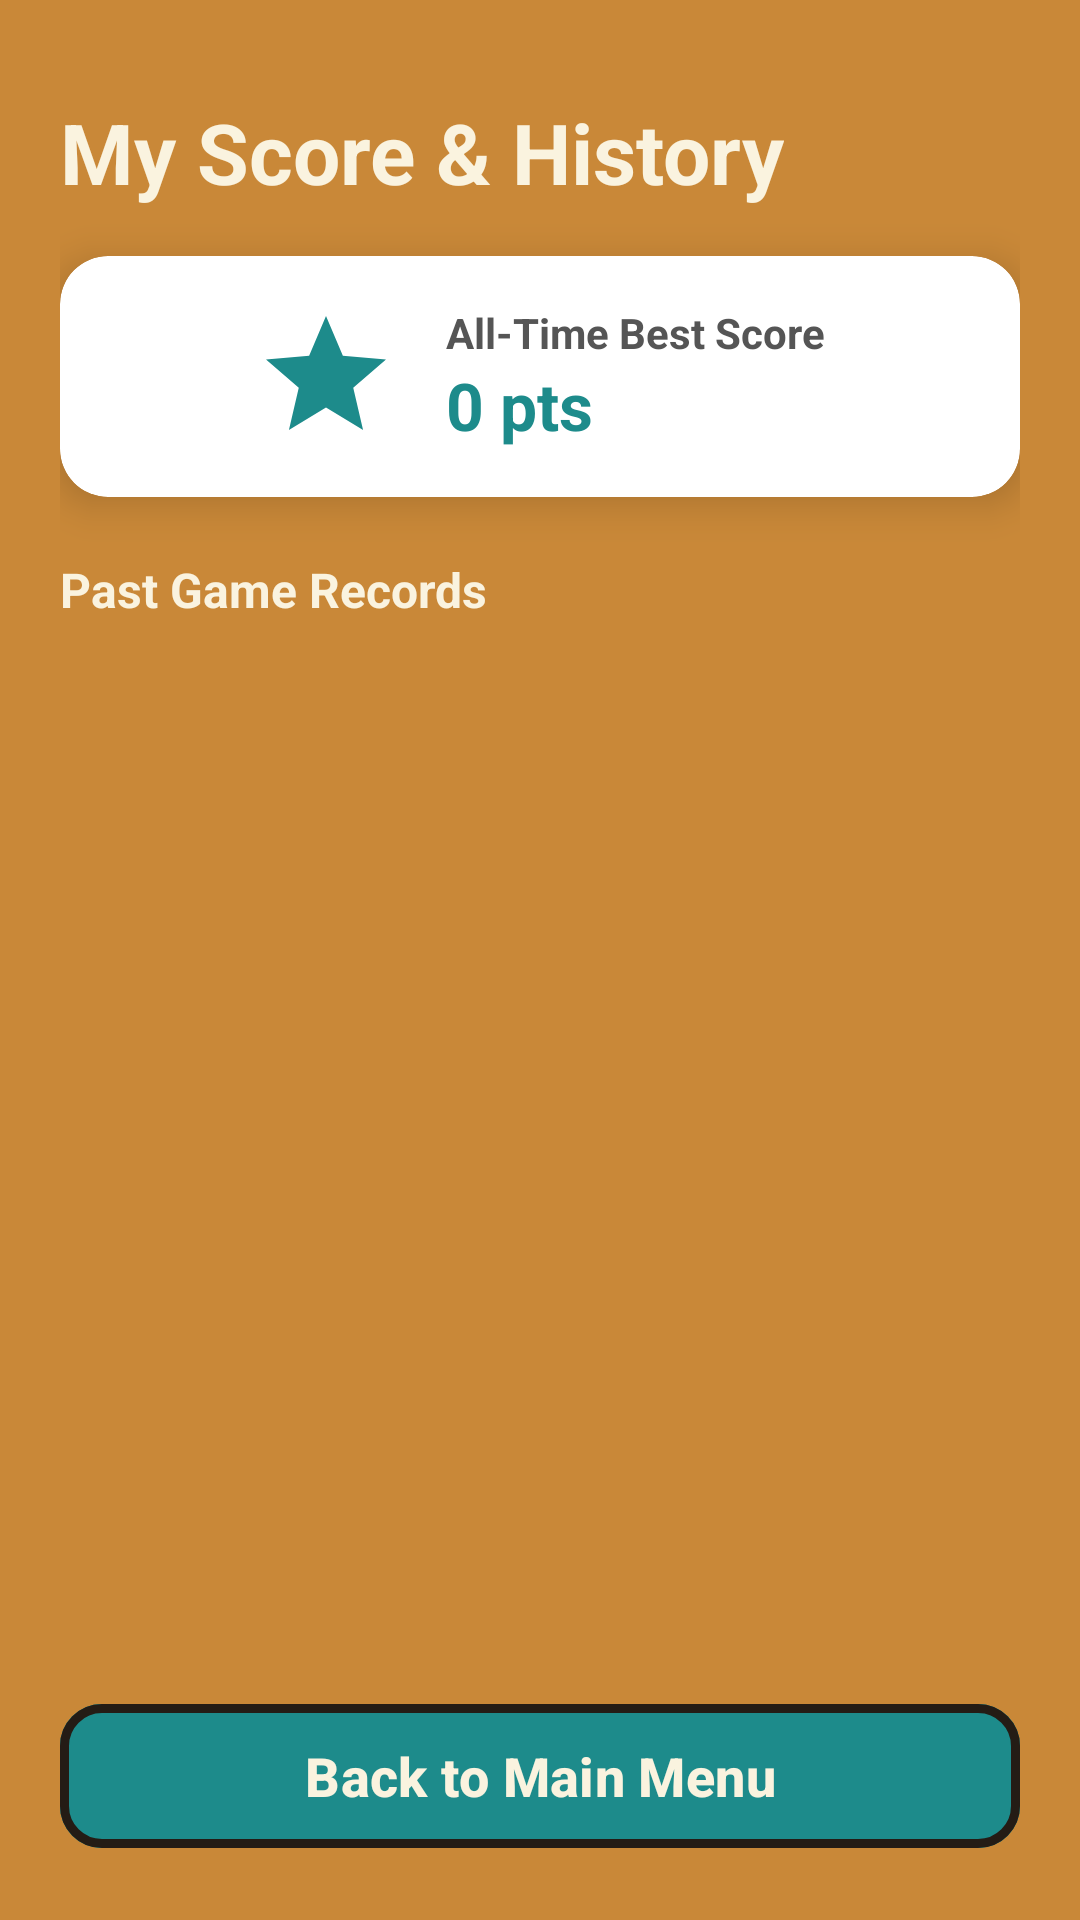

Point at icon controls on the screen. Image size 1080x1920, points as point (x, y).
Star Icon: point (326, 373)
